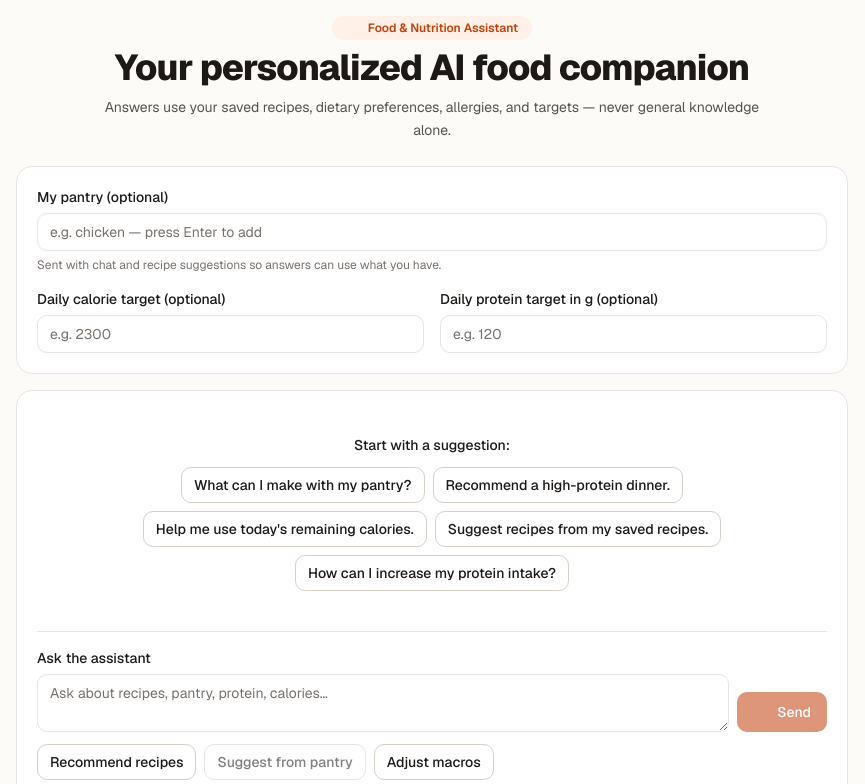
Test case: AssistantPage — Food & Nutrition AI Assistant › persists sent messages and replies to sessionStorage
Type "Persist me please" into the text box labelled "Ask the assistant". click: coordinates (383, 702)
box: [37,674,729,732]
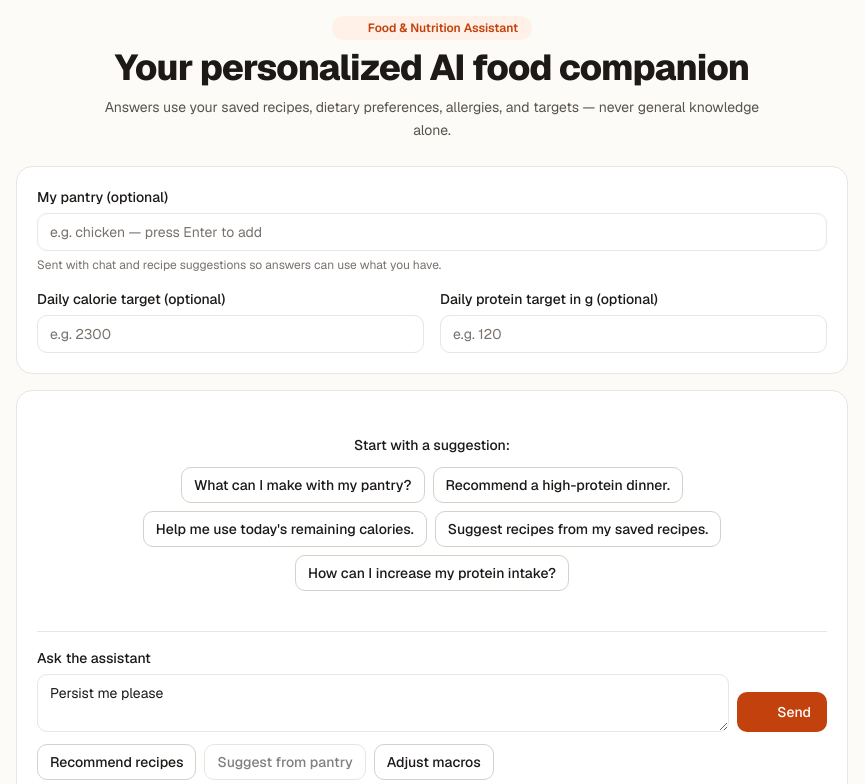
Click the button with aria-label "Send message". click: coordinates (782, 712)
box: [737,692,827,732]
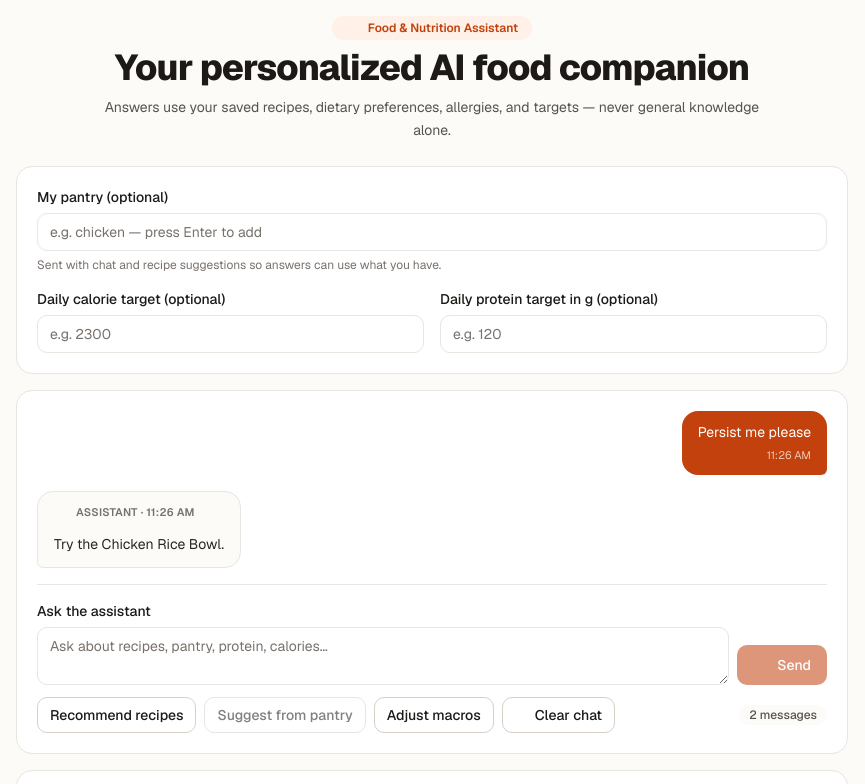
Check: the text "Try the Chicken Rice Bowl." is shown, box [54,533,224,555]
